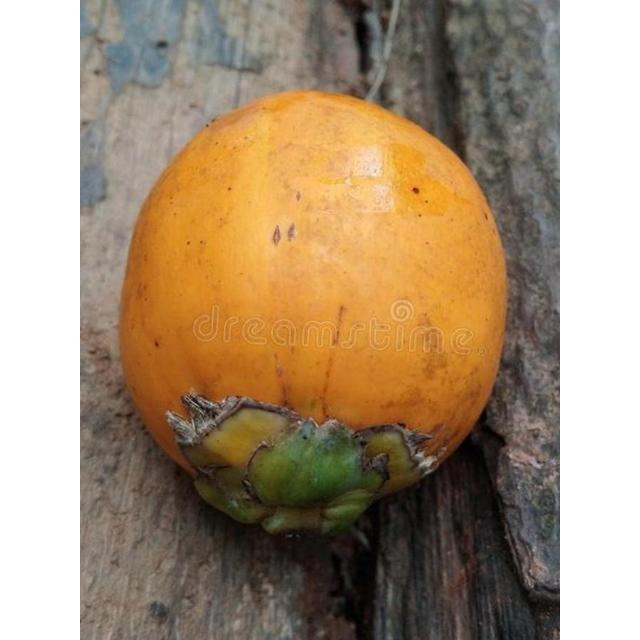good: (118, 90, 509, 539)
